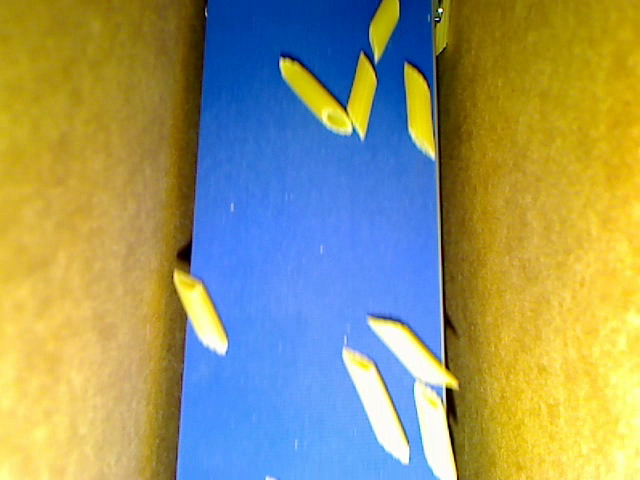penne: (339, 348, 412, 462), (365, 317, 461, 388), (278, 54, 353, 133), (408, 376, 459, 479), (173, 267, 227, 356), (402, 60, 436, 159), (365, 1, 406, 71), (350, 46, 377, 136), (428, 1, 450, 61)
